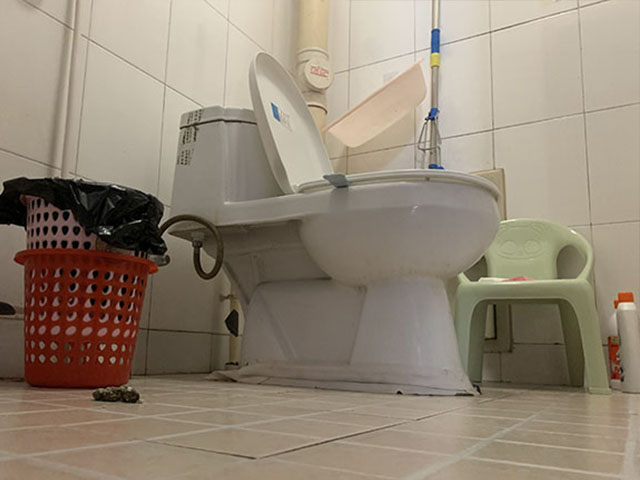closestool: (170, 48, 502, 396)
feces: (91, 384, 141, 403)
stool: (456, 215, 613, 397)
trashcan: (1, 171, 171, 388)
